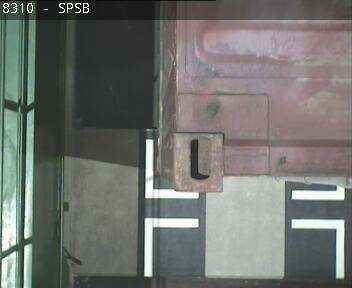groundmarker_1: (144, 137, 199, 277), (291, 183, 345, 278)
